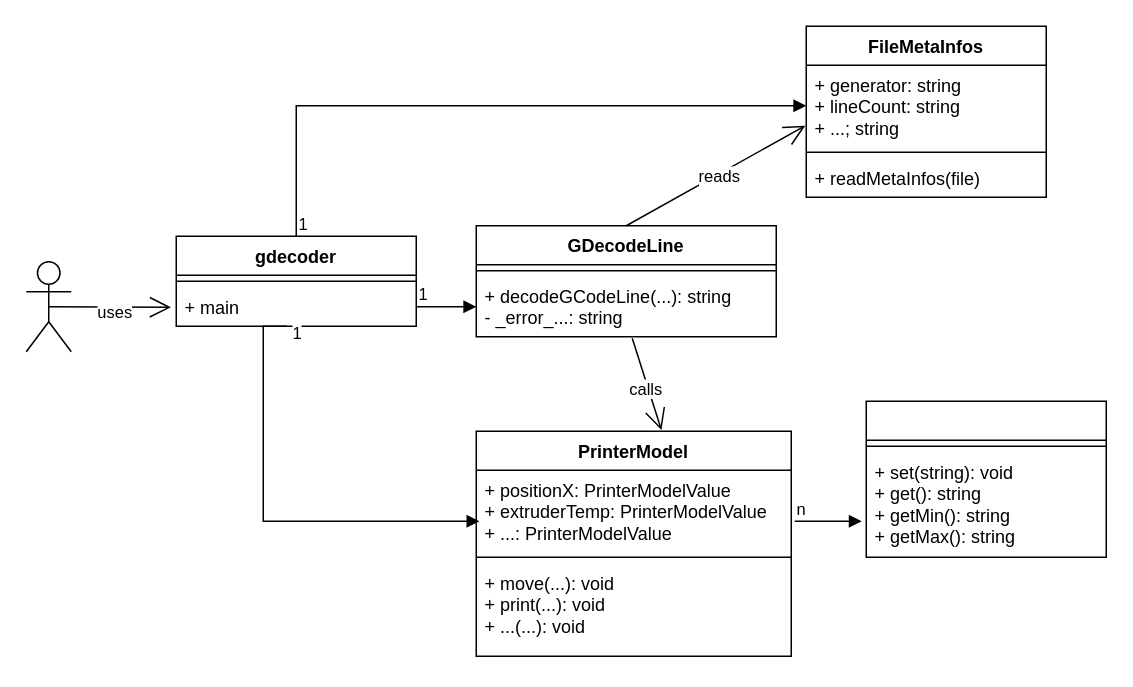
Image size: 1133x687. Some labels were removed from this diagram. The box of each missing label's shape, as (x1, y1, x2, y2) in pixels:
Actor: (25, 260, 71, 352)
PrinterModelValue: (865, 400, 1106, 557)
